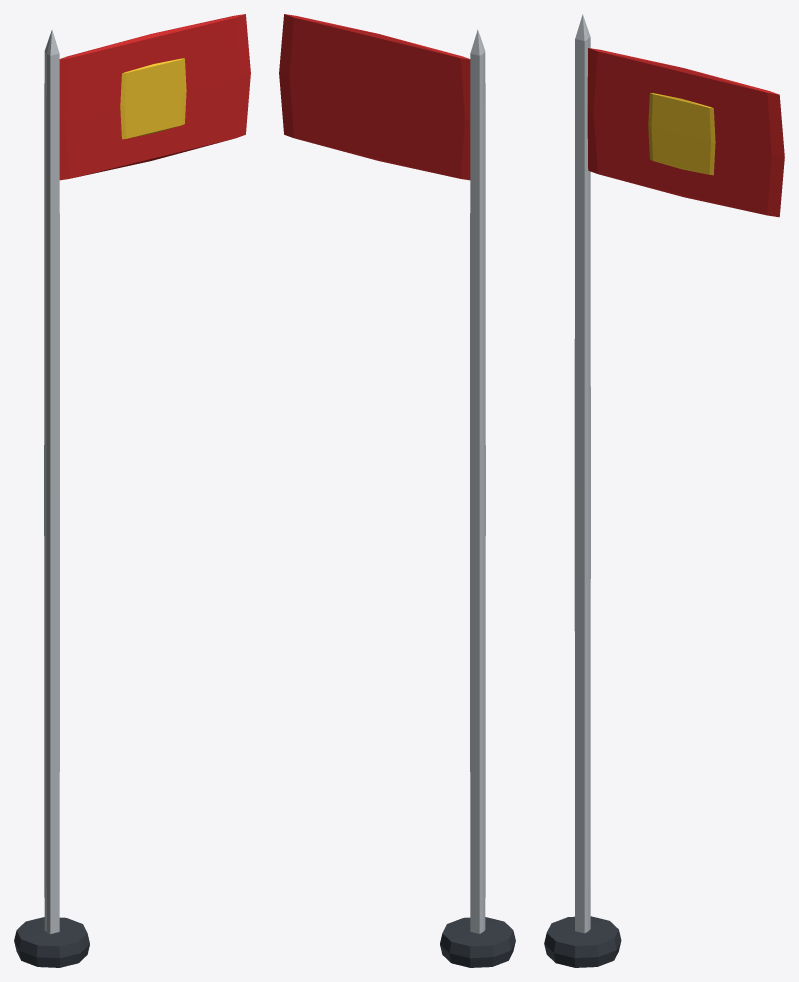
The model's file is s-flag.glb.
3 renders of one model, left to right at view 1: azimuth 30°, elevation 25°; view 2: azimuth 150°, elevation 25°; view 3: azimuth 330°, elevation 25°, orthographic.
Visible parts, largest first — view 1: p; view 2: p; view 3: p.
Boxes of the visible parts, <box> form: p: <box>14,14,250,967</box>; p: <box>279,14,515,967</box>; p: <box>544,14,784,967</box>.
Size of the model in its own units: 2.1 by 8 by 0.5706.
